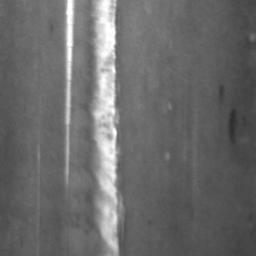Bright scratch: (88, 0, 119, 256), (65, 0, 74, 184)
